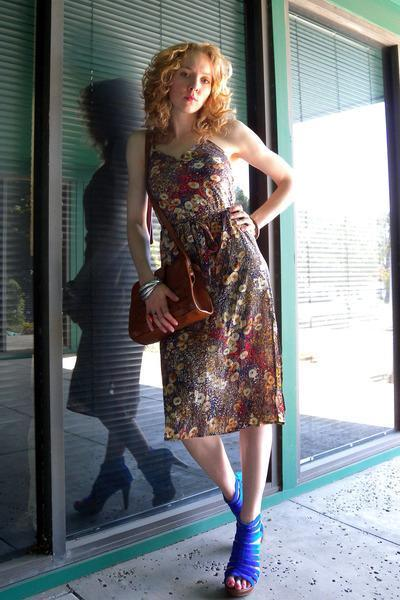bag: (128, 252, 225, 344)
dress: (143, 143, 285, 443)
shoe: (224, 516, 262, 584)
